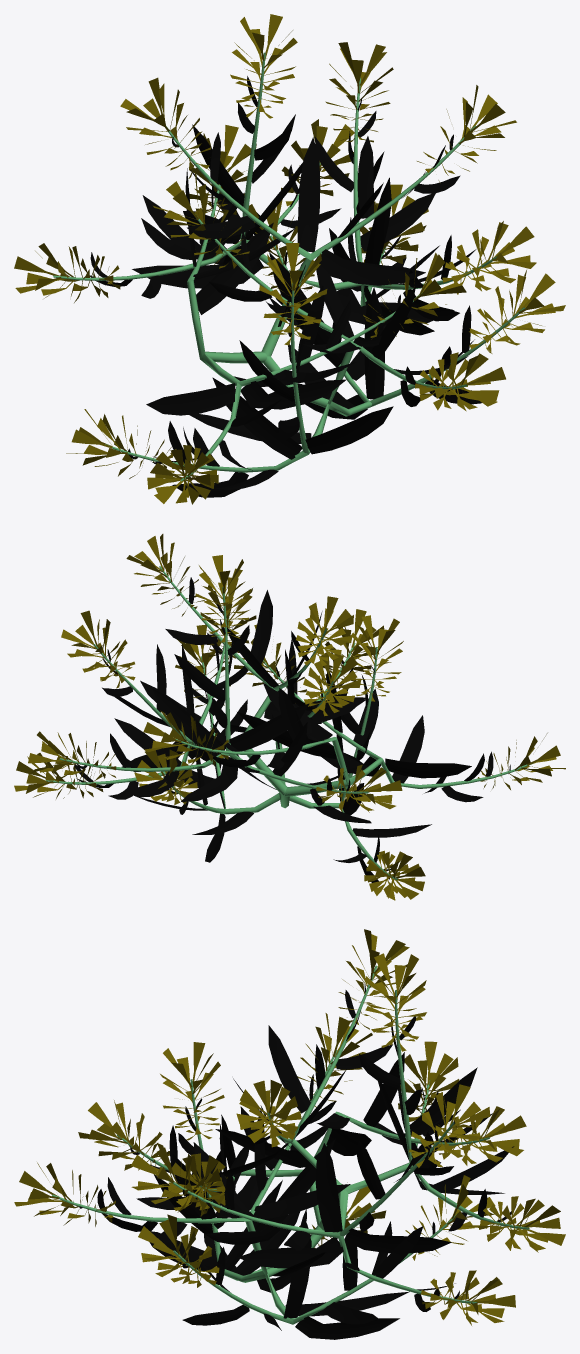
Rendered from flowers.fbx.
3 renders of one model, top to bottom at view 1: azimuth 30°, elevation 25°; view 2: azimuth 150°, elevation 25°; view 3: azimuth 270°, elevation 25°, orthographic. The views are drawn at different scales.
Visible parts, largest first — view 1: vincaYellowLight1Leaf, vincaYellowLight1Flower, vincaYellowLight1Main; view 2: vincaYellowLight1Leaf, vincaYellowLight1Flower, vincaYellowLight1Main; view 3: vincaYellowLight1Leaf, vincaYellowLight1Flower, vincaYellowLight1Main.
Boxes of the visible parts, <box> form: vincaYellowLight1Leaf: <box>90,76,506,497</box>; vincaYellowLight1Flower: <box>14,14,565,504</box>; vincaYellowLight1Main: <box>53,52,525,481</box>; vincaYellowLight1Leaf: <box>74,577,510,882</box>; vincaYellowLight1Flower: <box>14,534,565,900</box>; vincaYellowLight1Main: <box>46,566,533,879</box>; vincaYellowLight1Leaf: <box>79,984,516,1339</box>; vincaYellowLight1Flower: <box>14,929,565,1325</box>; vincaYellowLight1Main: <box>52,965,529,1324</box>.
Size of the model in its own units: 2.75 by 2.25 by 2.94.
